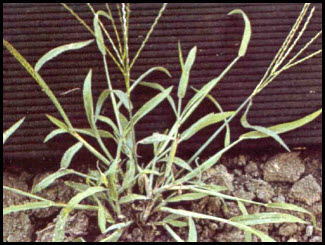crabgrass: (17, 33, 294, 238)
